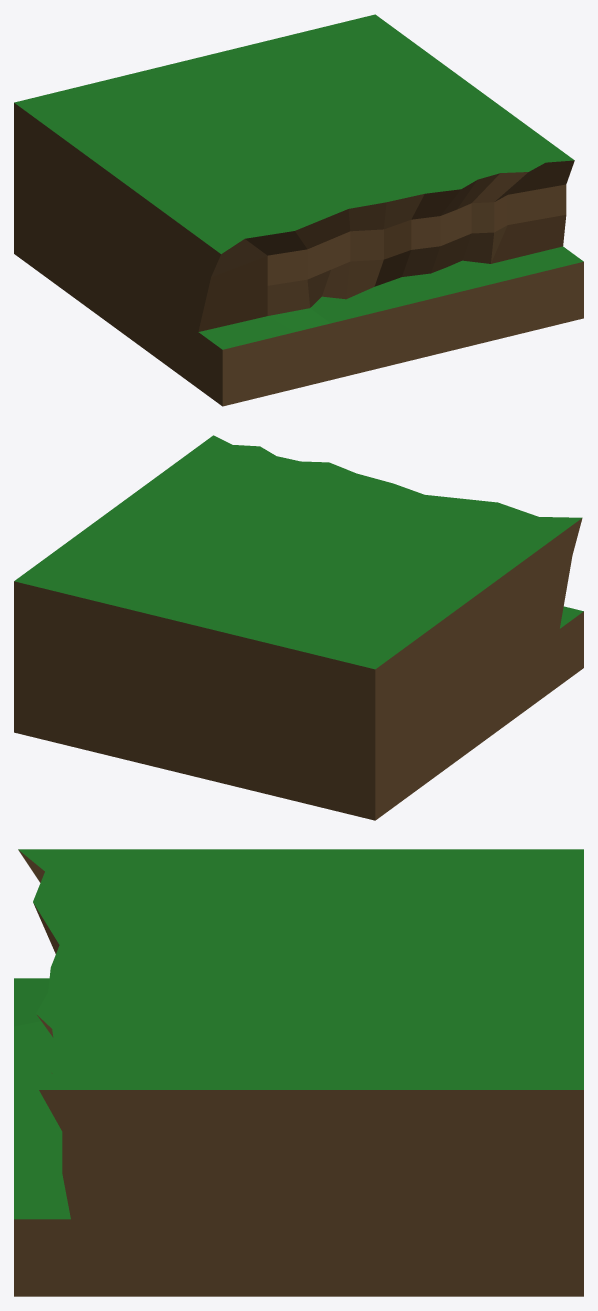
Rendered from Cliff_Middle.fbx.
3 renders of one model, top to bottom at view 1: azimuth 30°, elevation 25°; view 2: azimuth 150°, elevation 25°; view 3: azimuth 270°, elevation 25°, orthographic. The views are drawn at different scales.
Visible parts, largest first — view 1: Cliff_Middle; view 2: Cliff_Middle; view 3: Cliff_Middle.
Boxes of the visible parts, bbox=[...] form: Cliff_Middle: bbox=[14, 14, 583, 406]; Cliff_Middle: bbox=[14, 435, 583, 820]; Cliff_Middle: bbox=[14, 849, 583, 1296].
Size of the model in its own units: 200 by 80 by 200.
